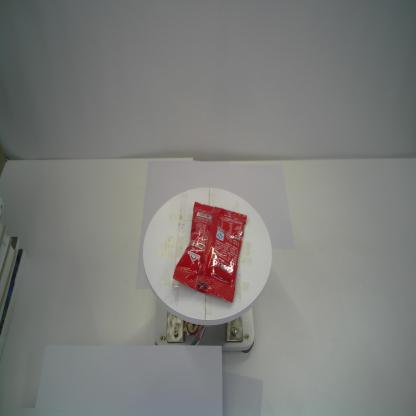Instant Drink: (172, 201, 247, 303)
